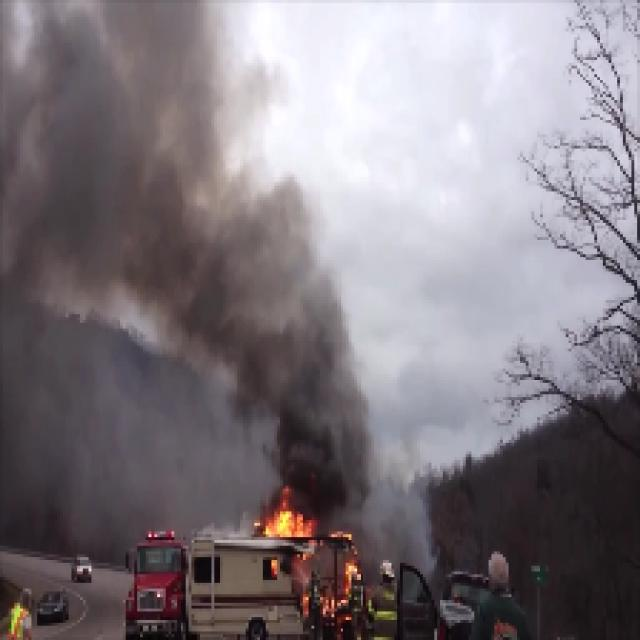fire: (258, 506, 319, 546)
smoke: (4, 3, 202, 504), (210, 85, 372, 477)
